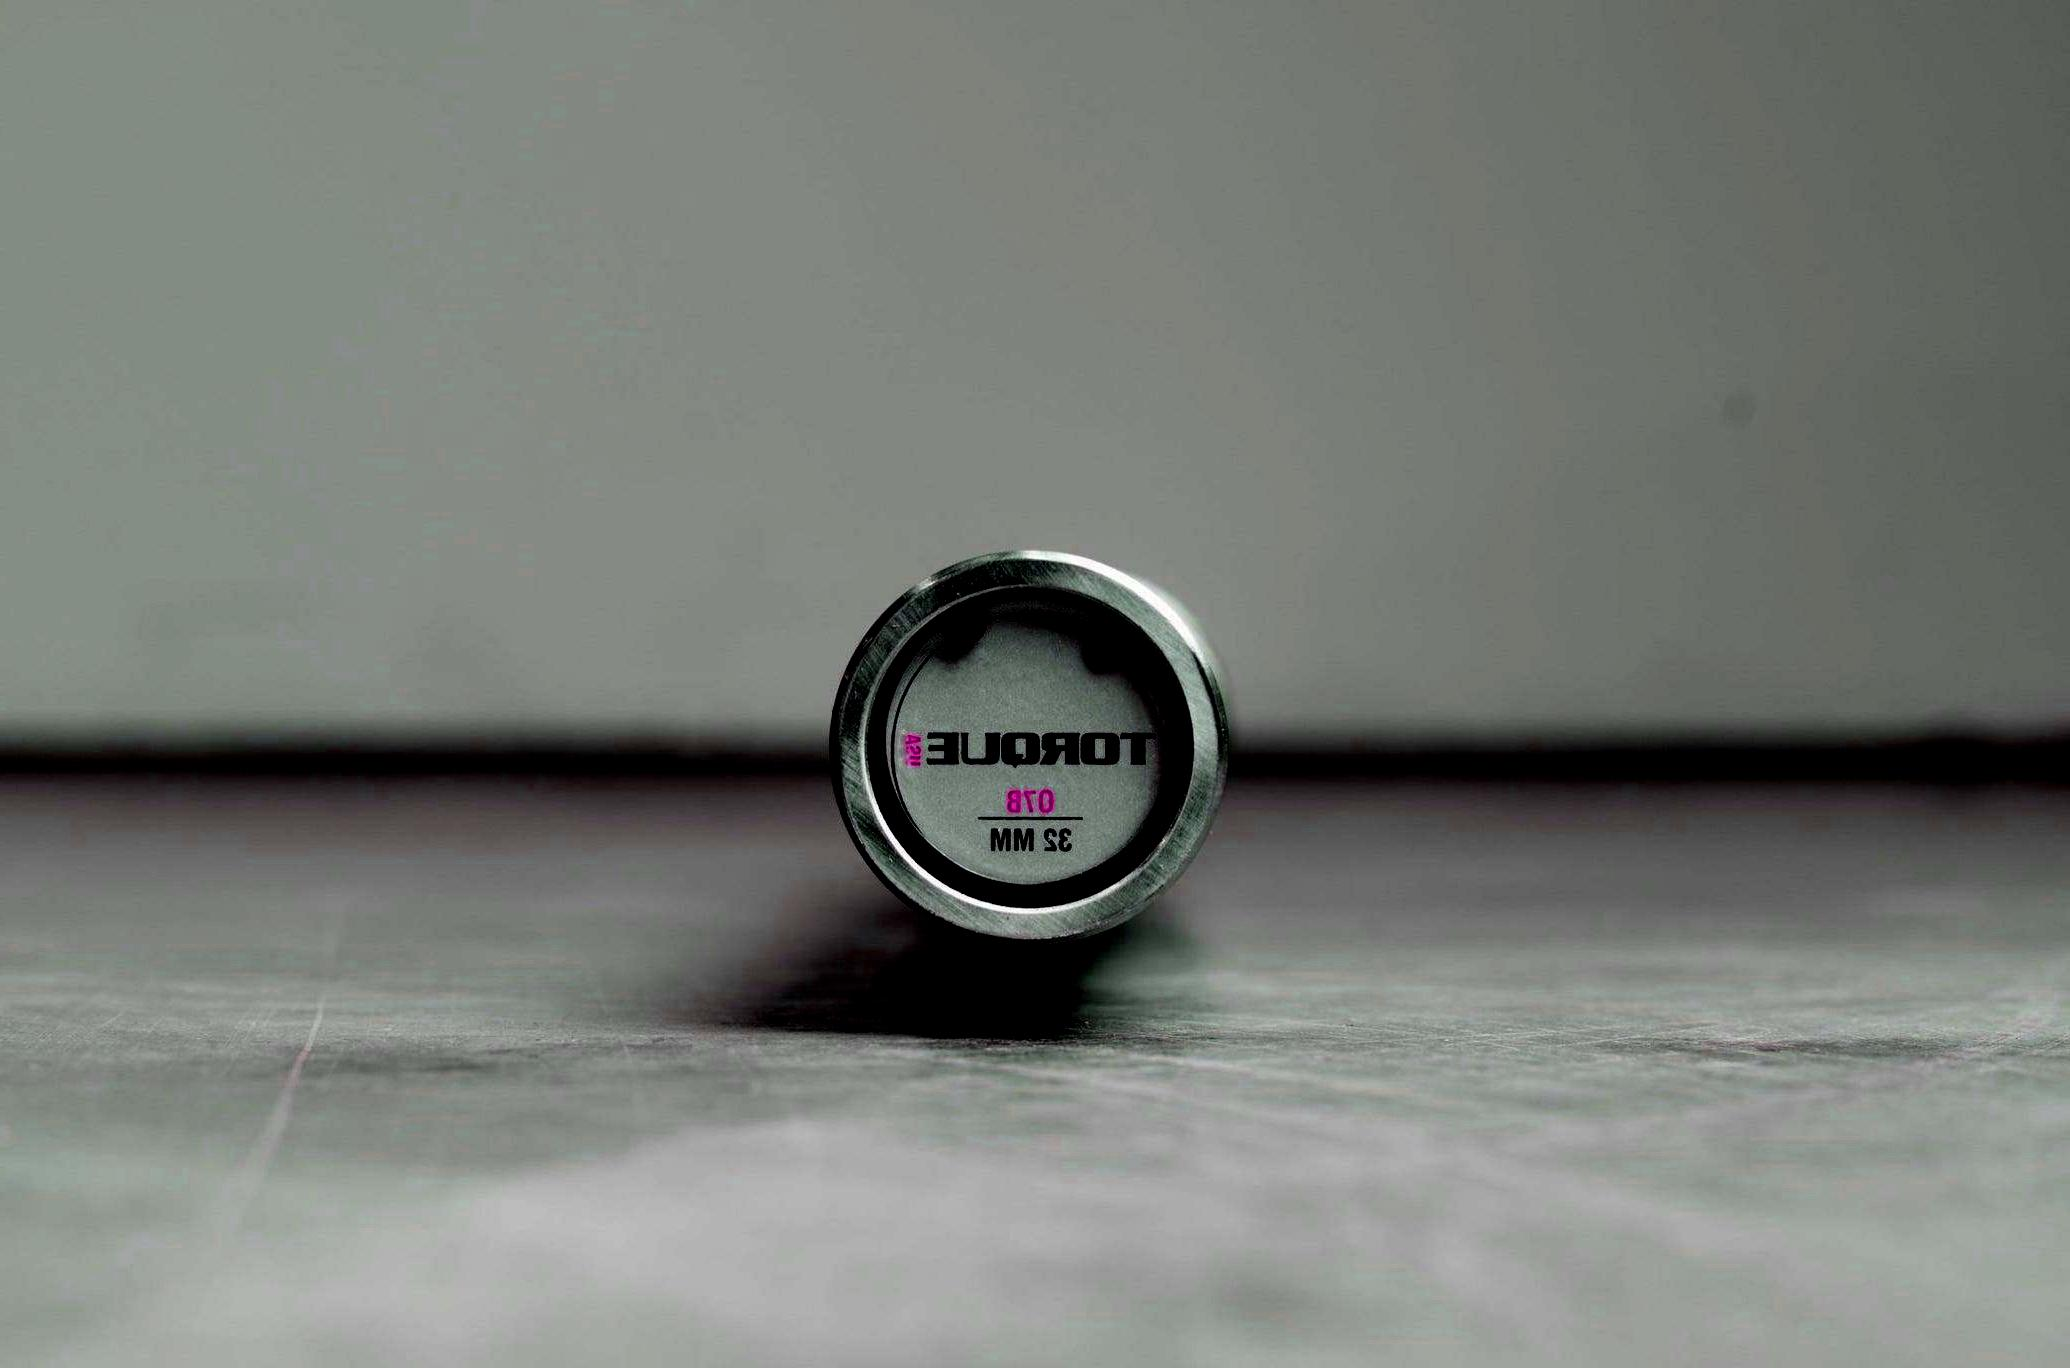Barbell: (768, 524, 1256, 970)
